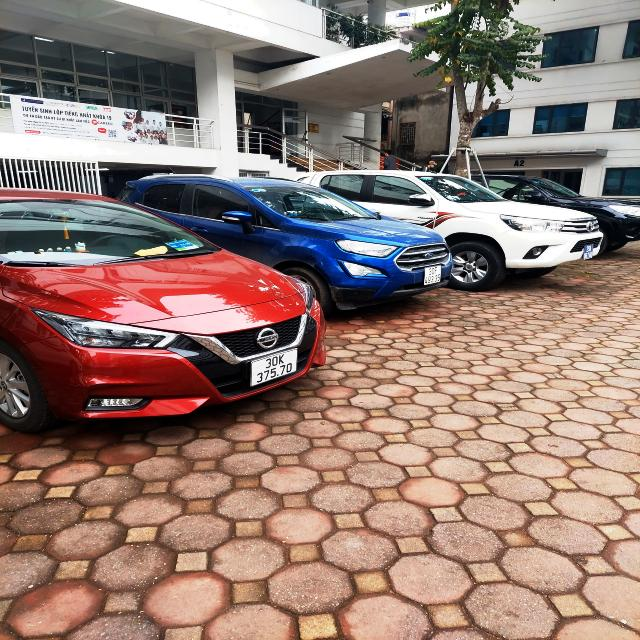license_plate: (251, 350, 298, 386), (424, 266, 442, 286), (585, 245, 594, 261)
